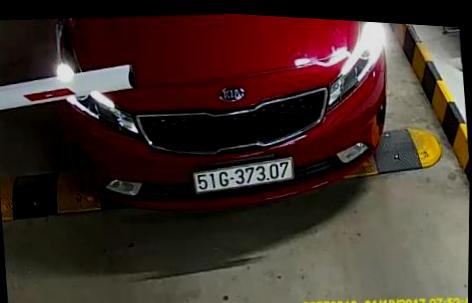License_Plate: (187, 148, 307, 206)
